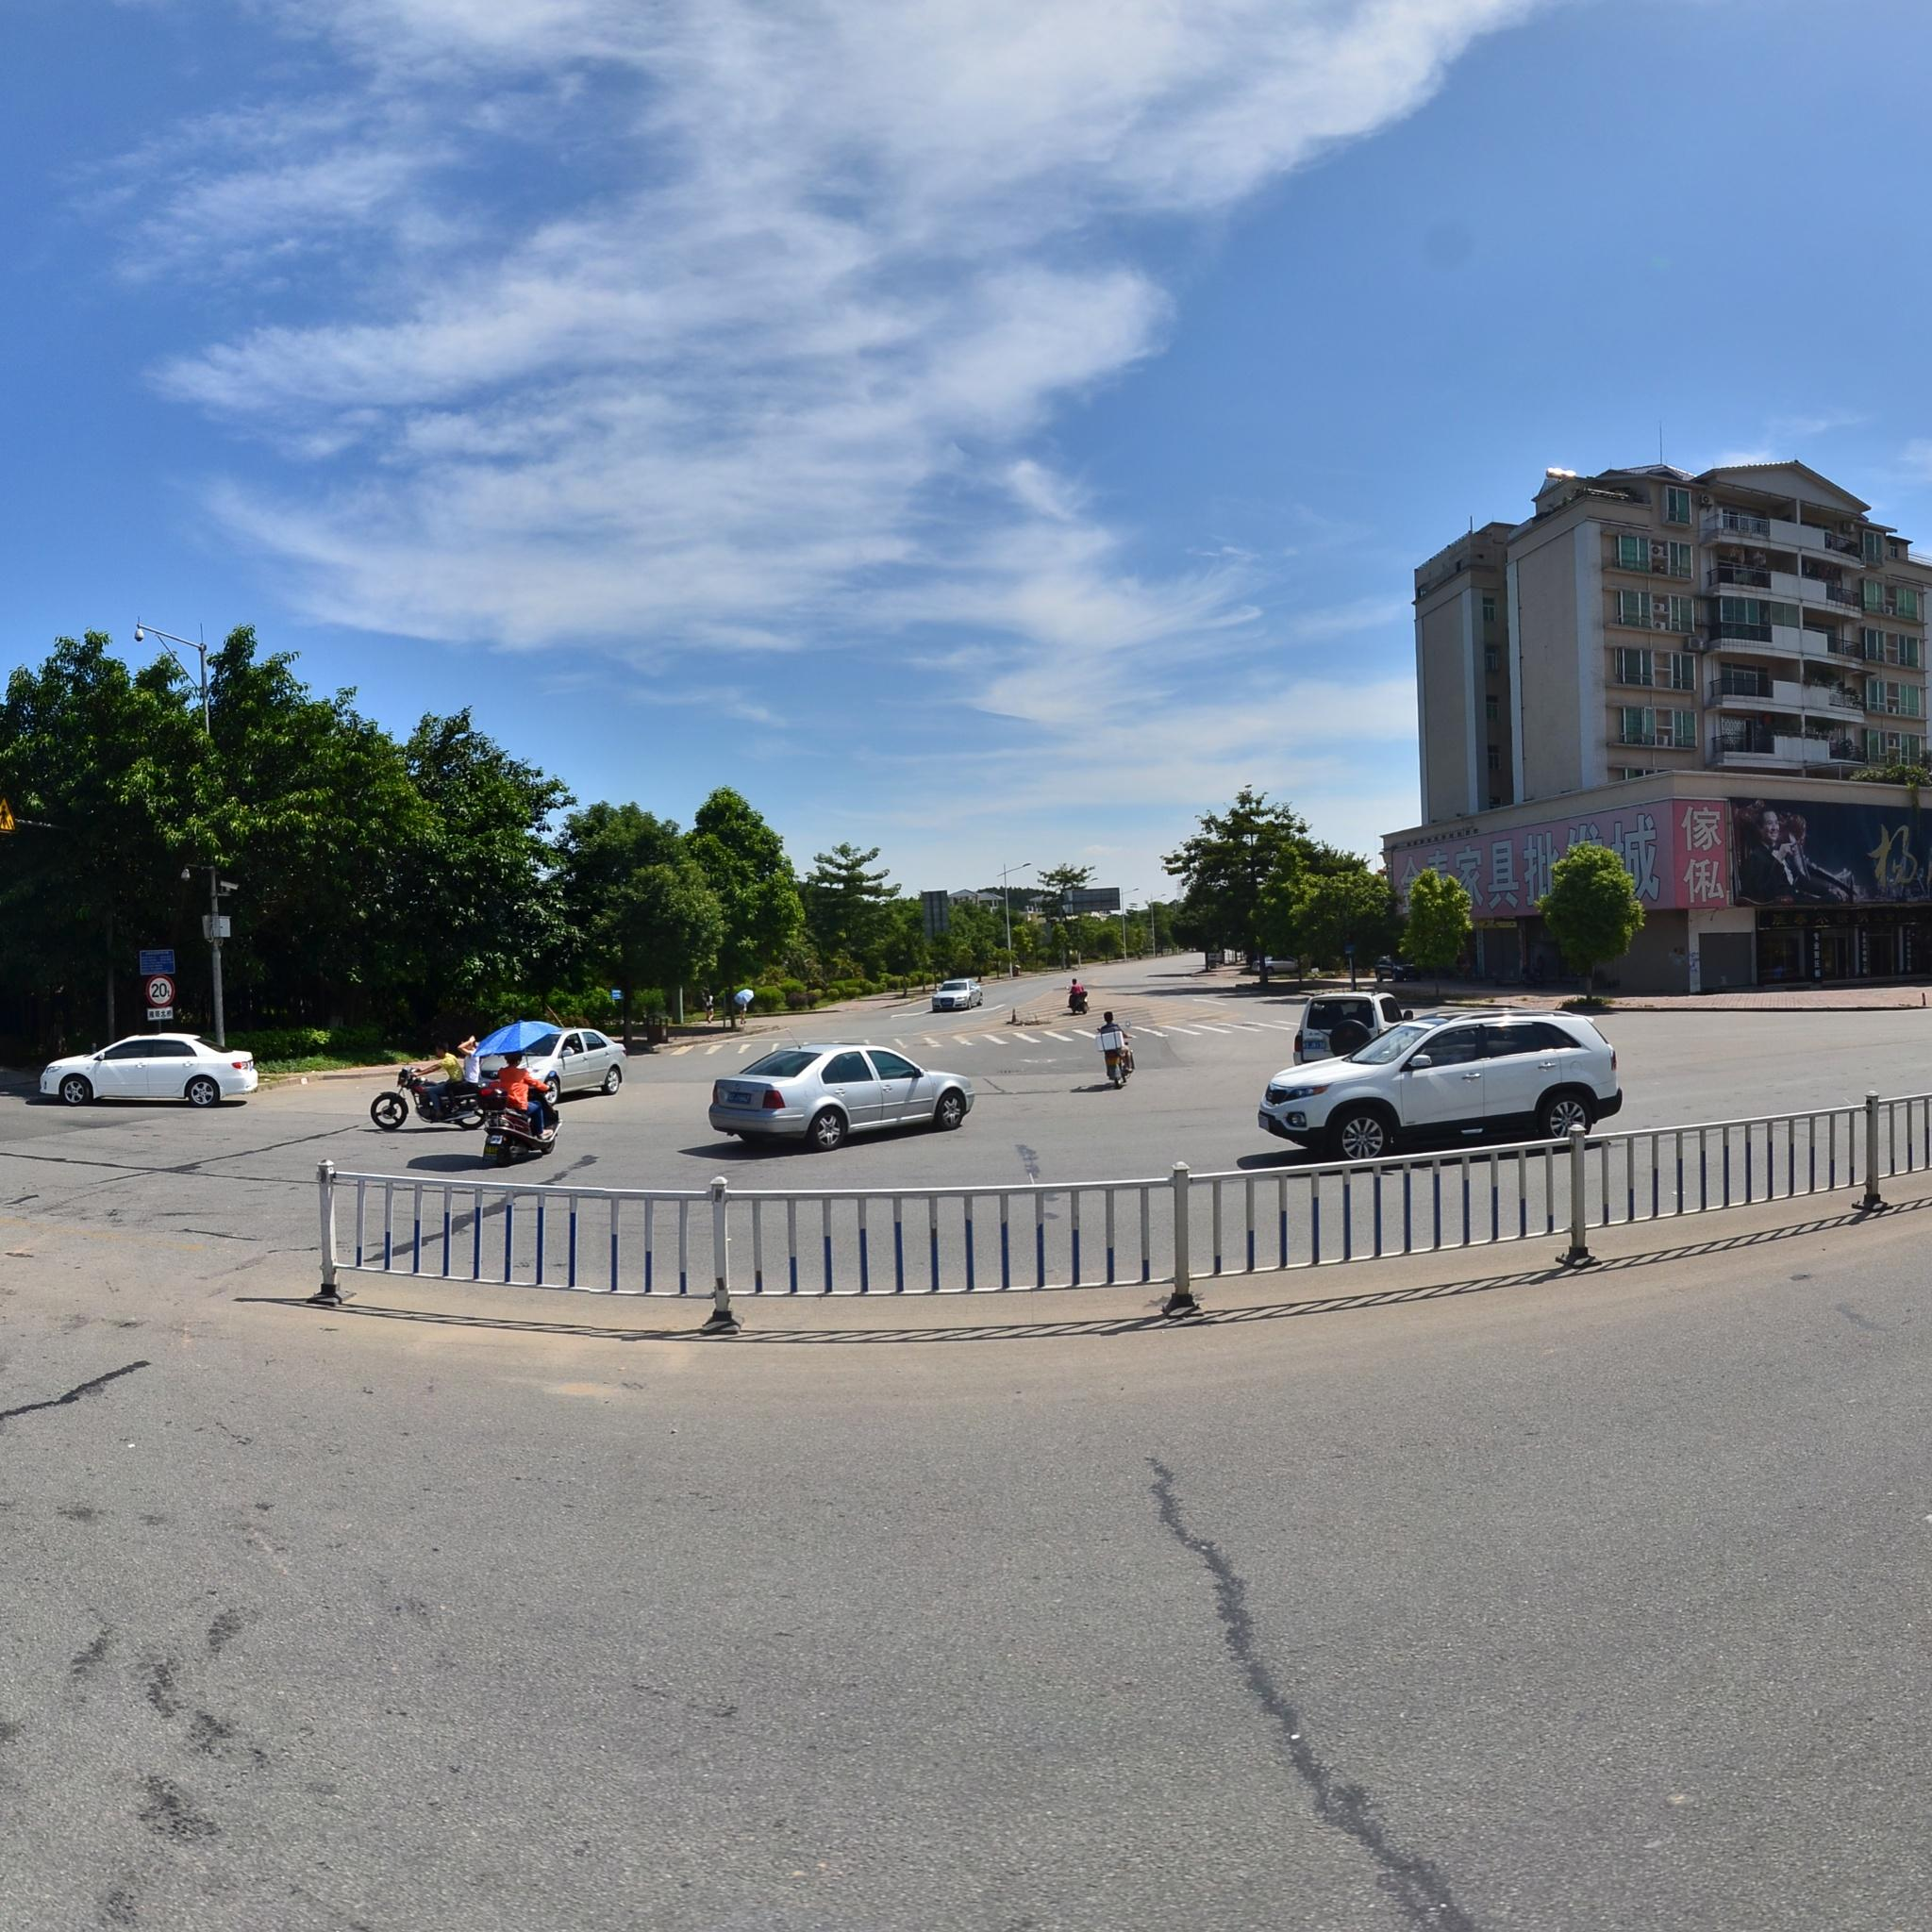pm20: (147, 977, 179, 1003)
